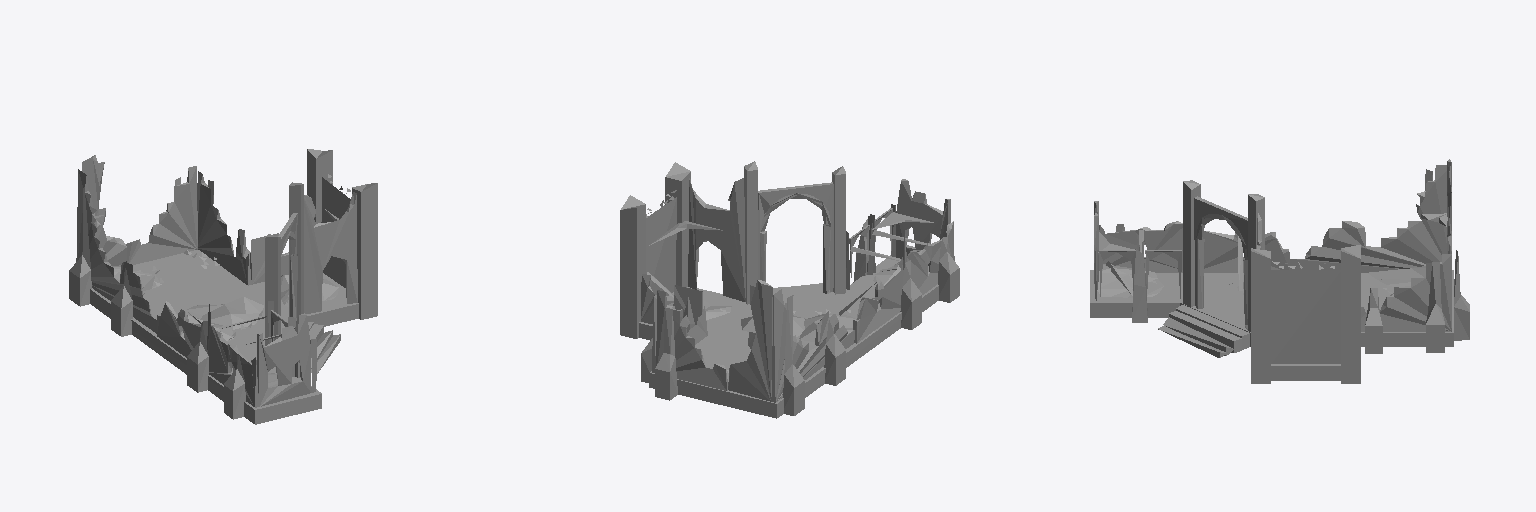
File: ruinsCathedral.obj
3 renders of one model, left to right at view 1: azimuth 30°, elevation 25°; view 2: azimuth 150°, elevation 25°; view 3: azimuth 270°, elevation 25°, orthographic.
Visible parts, largest first — view 1: CathedralRuinOne300; view 2: CathedralRuinOne300; view 3: CathedralRuinOne300.
Part boxes in pixels (x1,y1,x2,y2): CathedralRuinOne300: (69,149,377,424); CathedralRuinOne300: (620,161,959,418); CathedralRuinOne300: (1090,159,1469,383).
Bounding box in the file's own units: 4615 × 3125 × 7087.